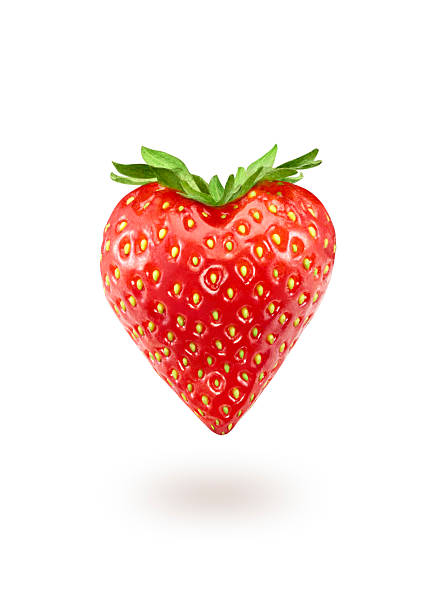Fresa: (98, 161, 345, 440)
